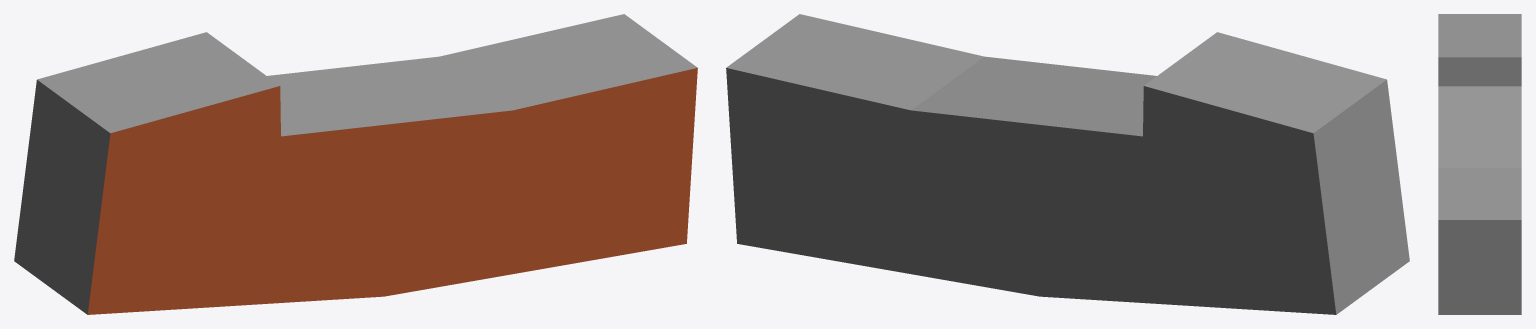
The model's file is construction_7145_assumed_A_Ruinas_h6m.obj.
3 views of the same model, side by side, from view 1: azimuth 30°, elevation 25°; view 2: azimuth 150°, elevation 25°; view 3: azimuth 270°, elevation 25° (orthographic). The views are drawn at different scales.
Parts seen in each view (by area): view 1: construction_7145_assumed_A_Ruinas; view 2: construction_7145_assumed_A_Ruinas; view 3: construction_7145_assumed_A_Ruinas.
Part boxes in pixels (<box>): construction_7145_assumed_A_Ruinas: <box>14,14,697,314</box>; construction_7145_assumed_A_Ruinas: <box>726,14,1409,314</box>; construction_7145_assumed_A_Ruinas: <box>1438,14,1521,314</box>.
Bounding box in the file's own units: 28.75 × 11.57 × 6.
